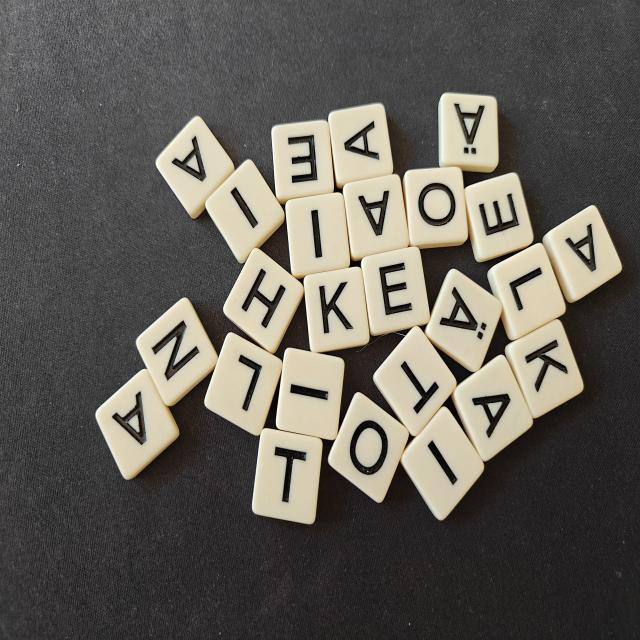a: (96, 369, 179, 479), (452, 355, 532, 461), (156, 116, 234, 218), (542, 205, 621, 302), (342, 174, 409, 261), (328, 103, 393, 188)
a_dot: (425, 269, 502, 372), (438, 93, 499, 172)
e: (464, 172, 533, 262), (361, 247, 429, 335), (272, 120, 334, 204)
h: (223, 248, 304, 354), (230, 360, 231, 361)
i: (401, 407, 484, 520), (206, 160, 285, 263), (276, 348, 344, 440), (285, 193, 350, 278)
k: (505, 319, 584, 418), (304, 267, 369, 352)
l: (204, 333, 282, 435), (487, 243, 566, 340)
n: (136, 298, 218, 406)
o: (328, 392, 409, 502), (403, 167, 468, 249)
t: (373, 326, 456, 436), (252, 429, 322, 524)
